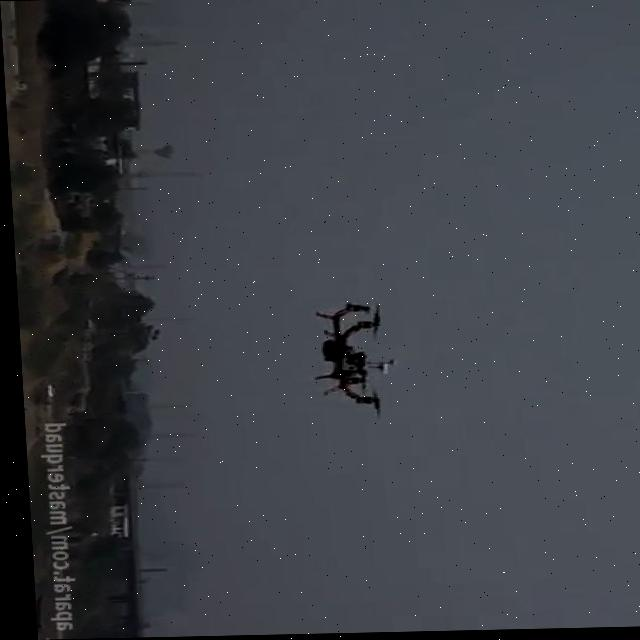drone: (304, 296, 403, 424)
